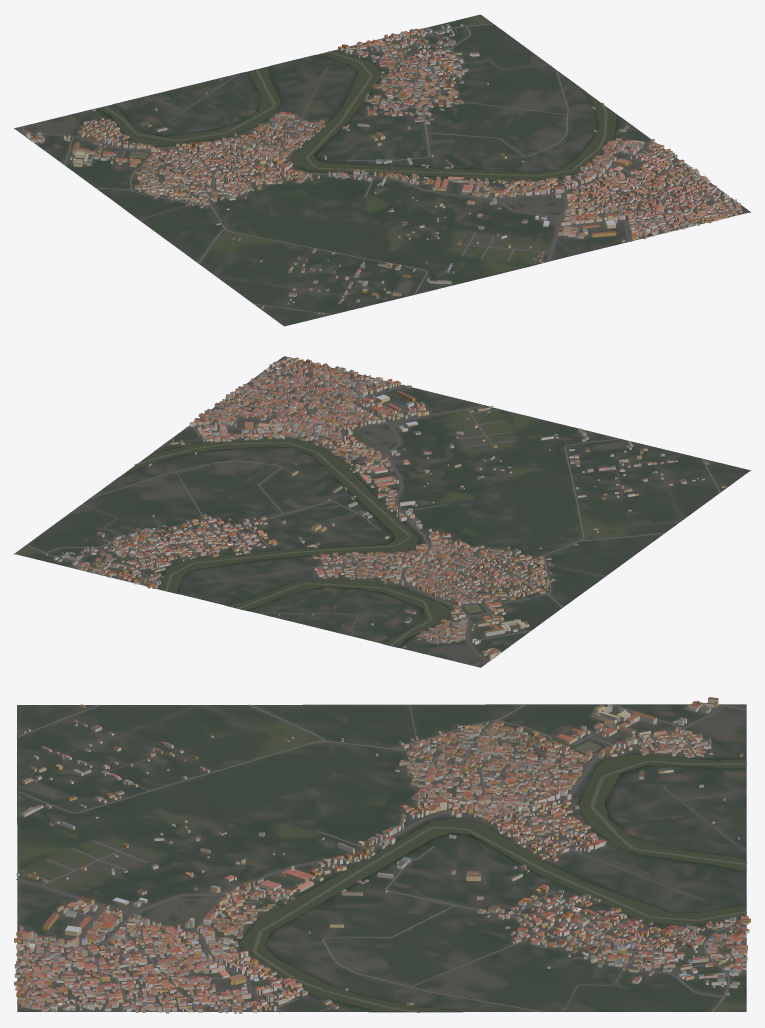
3 views of the same model, one above another, from view 1: azimuth 30°, elevation 25°; view 2: azimuth 150°, elevation 25°; view 3: azimuth 270°, elevation 25° (orthographic). The views are drawn at different scales.
Parts seen in each view (by area): view 1: ground, buildings, water, roads; view 2: ground, buildings, water, roads; view 3: ground, buildings, water, roads.
Boxes of the visible parts, x1,y1,x2,y2 form: ground: [14, 14, 750, 326]; buildings: [25, 23, 742, 314]; water: [98, 50, 616, 181]; roads: [21, 23, 733, 314]; ground: [14, 356, 750, 667]; buildings: [45, 357, 726, 659]; water: [121, 438, 483, 647]; roads: [27, 362, 720, 665]; ground: [17, 704, 746, 1012]; buildings: [14, 697, 750, 1013]; water: [239, 741, 747, 1012]; roads: [16, 704, 746, 1012].
Bounding box in the file's own units: 1408 × 21.89 × 1416.
